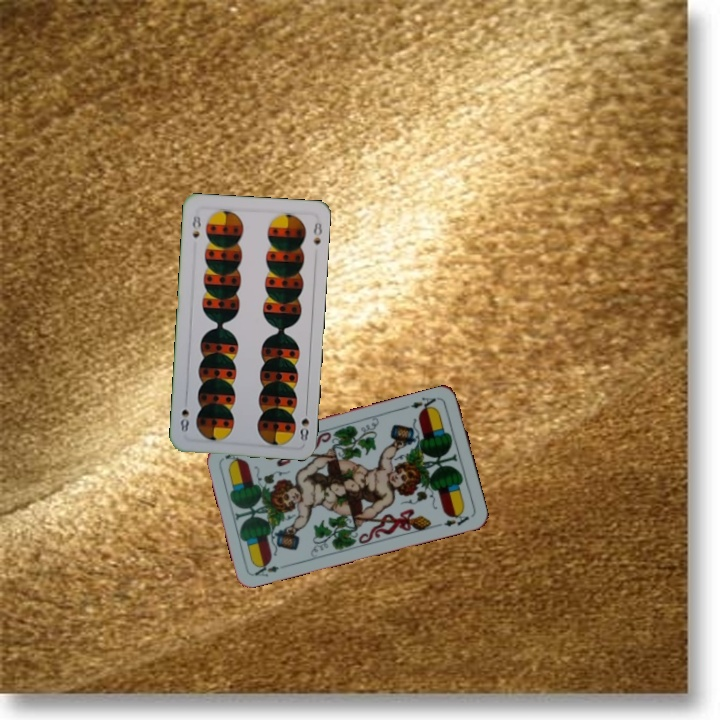EA: (402, 393, 442, 415), (250, 558, 281, 580)
S8: (296, 403, 311, 444), (188, 211, 204, 240)
